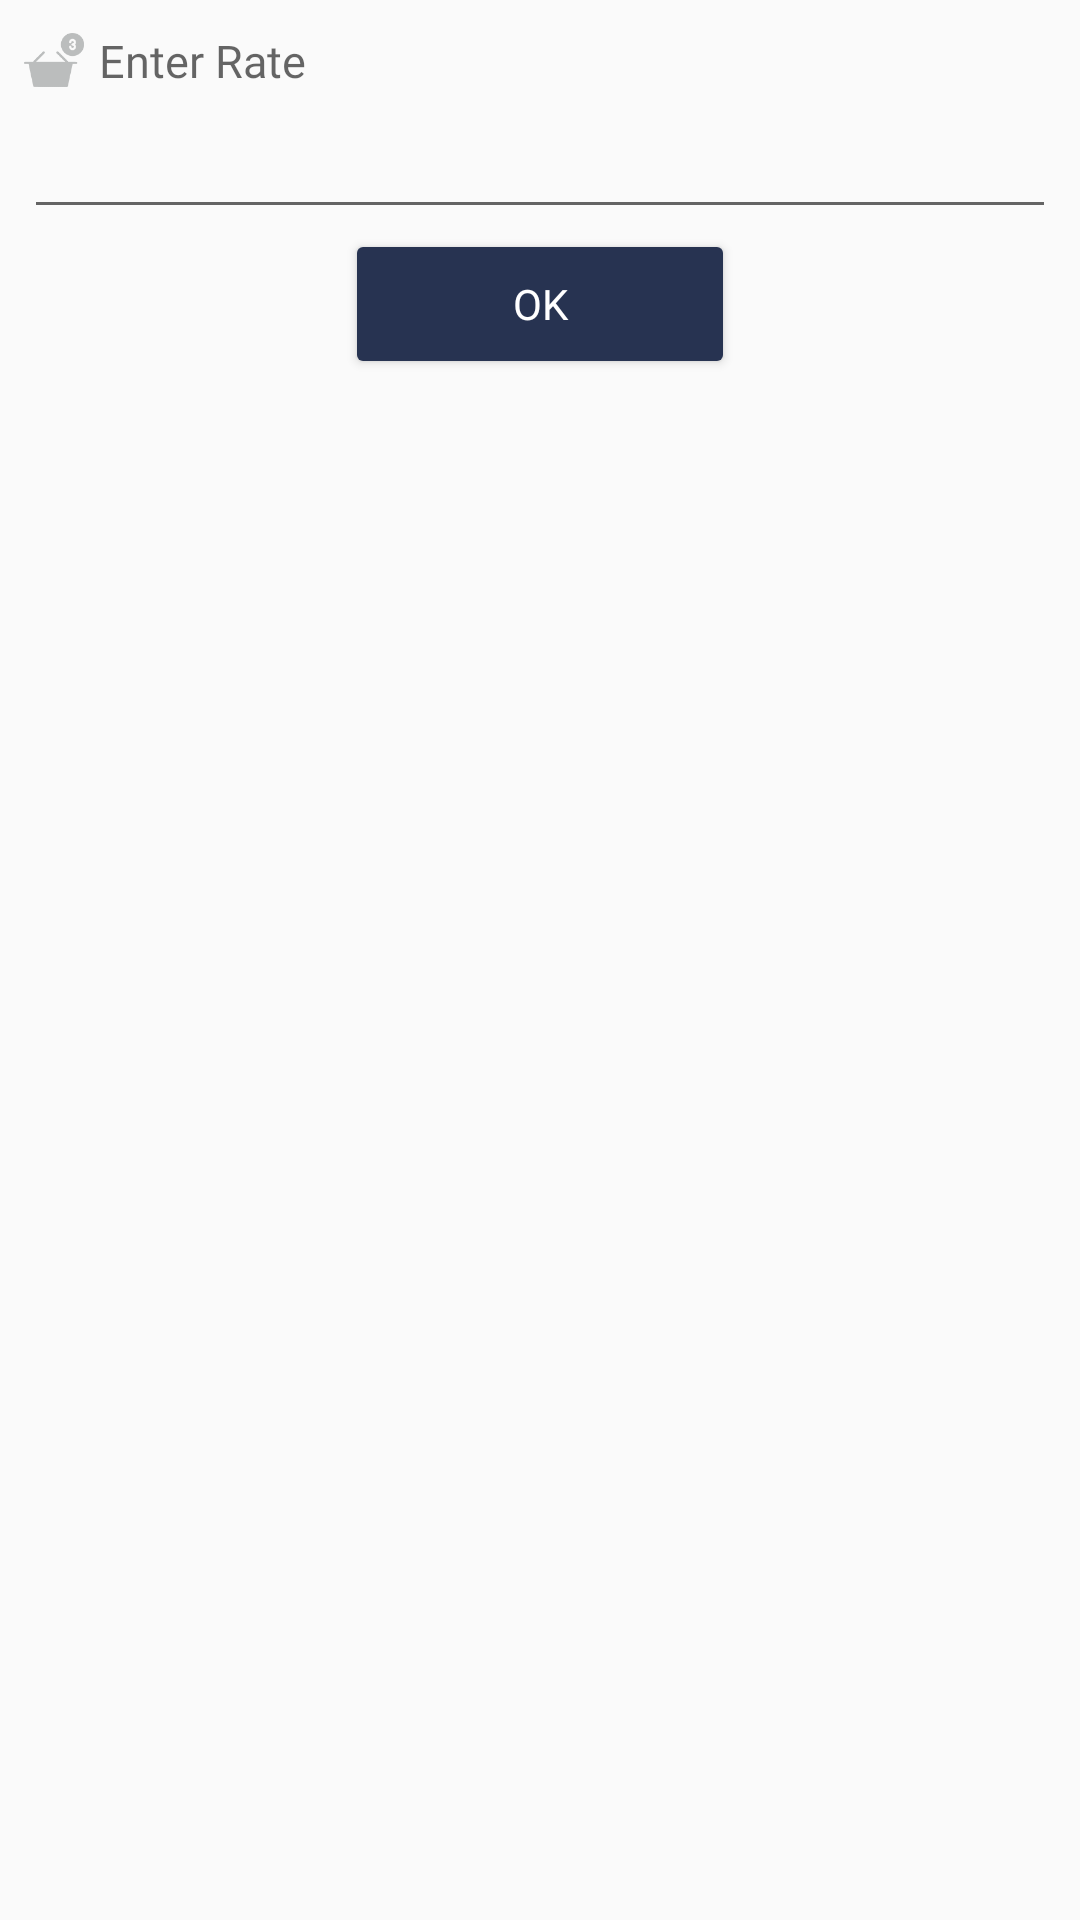

Icon click points for this 1080 x 1920 phone screenshot, format point (x, y):
qtyicon: point (54, 60)
